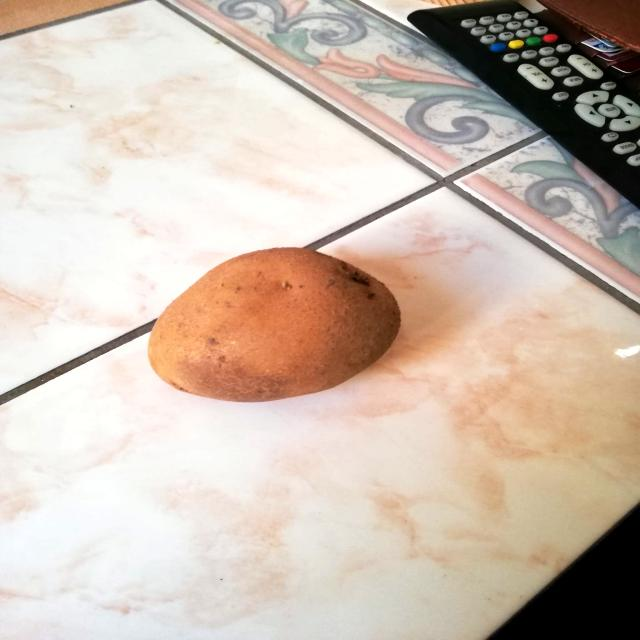potato: (142, 241, 407, 406)
